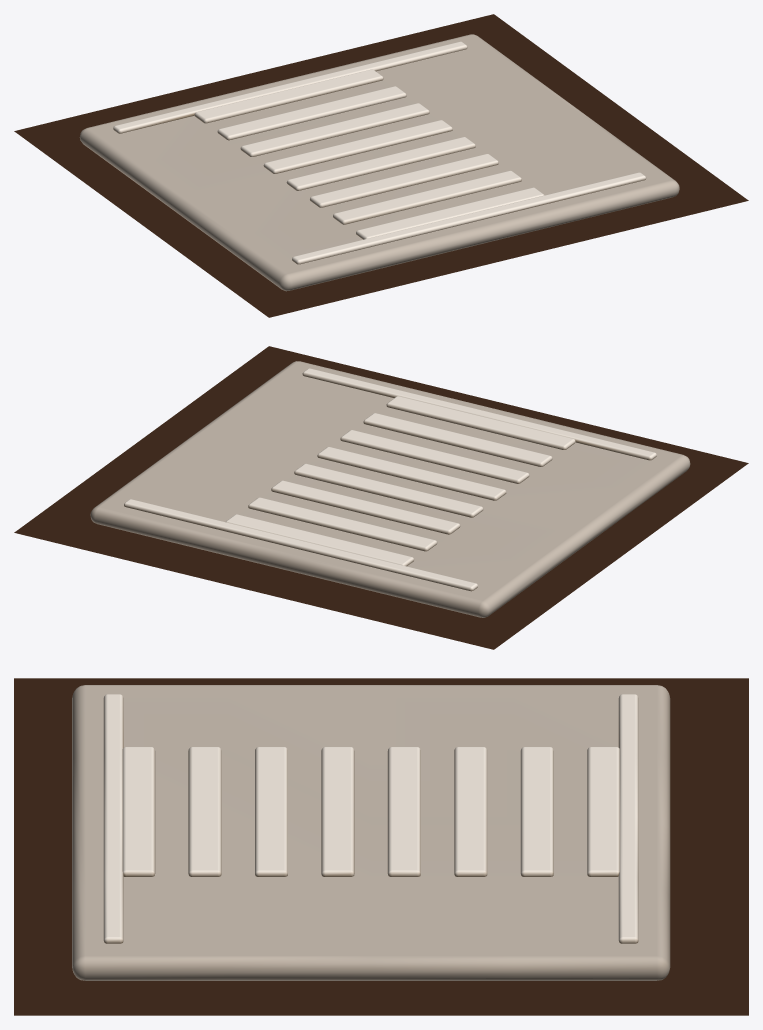
File: runway_threshold.glb
3 renders of one model, top to bottom at view 1: azimuth 30°, elevation 25°; view 2: azimuth 150°, elevation 25°; view 3: azimuth 270°, elevation 25°, orthographic. The views are drawn at different scales.
Parts seen in each view (by area): view 1: slab, baked_shadow, edge-1, edge1, bar7, bar6, bar2, bar5, bar1, bar3, bar4, bar0; view 2: slab, baked_shadow, edge1, edge-1, bar2, bar6, bar4, bar5, bar0, bar1, bar3, bar7; view 3: slab, baked_shadow, edge-1, edge1, bar3, bar1, bar5, bar4, bar6, bar0, bar2, bar7.
Part boxes in pixels (x1=…): slab: x1=79, y1=34, x2=679, y2=291; baked_shadow: x1=14, y1=14, x2=748, y2=317; edge-1: x1=292, y1=172, x2=646, y2=264; edge1: x1=113, y1=41, x2=467, y2=133; bar7: x1=194, y1=69, x2=383, y2=123; bar6: x1=217, y1=86, x2=406, y2=140; bar2: x1=310, y1=154, x2=498, y2=207; bar5: x1=240, y1=103, x2=429, y2=156; bar1: x1=333, y1=170, x2=521, y2=224; bar3: x1=286, y1=137, x2=475, y2=190; bar4: x1=263, y1=120, x2=452, y2=173; bar0: x1=356, y1=187, x2=544, y2=239; slab: x1=90, y1=361, x2=690, y2=617; baked_shadow: x1=14, y1=346, x2=748, y2=649; edge1: x1=124, y1=499, x2=477, y2=591; edge-1: x1=302, y1=368, x2=656, y2=460; bar2: x1=340, y1=430, x2=529, y2=483; bar6: x1=248, y1=497, x2=437, y2=551; bar4: x1=294, y1=463, x2=483, y2=517; bar5: x1=271, y1=480, x2=460, y2=534; bar0: x1=386, y1=396, x2=575, y2=449; bar1: x1=363, y1=413, x2=552, y2=466; bar3: x1=317, y1=447, x2=506, y2=500; bar7: x1=226, y1=514, x2=413, y2=566; slab: x1=72, y1=685, x2=670, y2=980; baked_shadow: x1=14, y1=678, x2=748, y2=1015; edge-1: x1=103, y1=694, x2=123, y2=943; edge1: x1=618, y1=694, x2=638, y2=943; bar3: x1=321, y1=747, x2=354, y2=876; bar1: x1=188, y1=747, x2=221, y2=876; bar5: x1=454, y1=747, x2=487, y2=876; bar4: x1=387, y1=747, x2=420, y2=876; bar6: x1=520, y1=747, x2=553, y2=876; bar0: x1=122, y1=747, x2=155, y2=876; bar2: x1=255, y1=747, x2=287, y2=876; bar7: x1=587, y1=747, x2=619, y2=876.
Size of the model in its own units: 4.81 by 0.195 by 4.42.
Materials: 3 (1 with a texture image).
